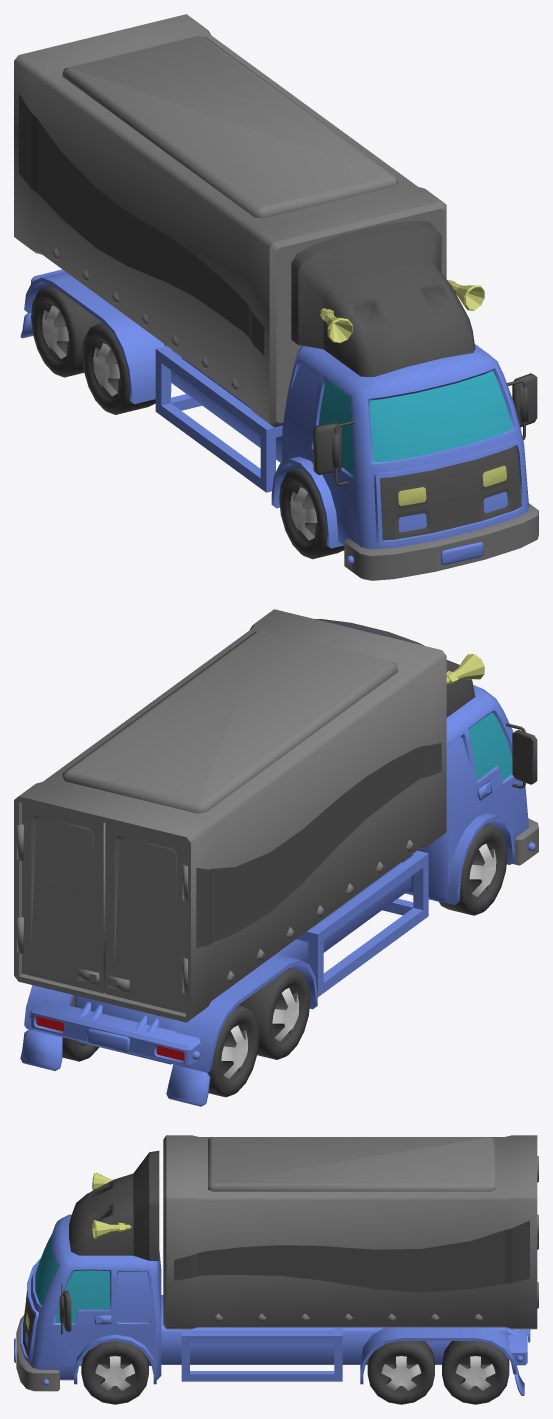
Rendered from tir.fbx.
3 renders of one model, top to bottom at view 1: azimuth 30°, elevation 25°; view 2: azimuth 150°, elevation 25°; view 3: azimuth 270°, elevation 25°, orthographic. The views are drawn at different scales.
Parts seen in each view (by area): view 1: tir, teker6, teker4.001, teker2.001; view 2: tir, kapi, kapi2.001, teker4.001, teker2.001, teker6, teker5; view 3: tir, teker5, teker3.001, teker.001.
Boxes of the visible parts, x1,y1,x2,y2 form: tir: (14,14,538,580); teker6: (31,285,102,377); teker4.001: (82,323,155,414); teker2.001: (279,467,344,559); tir: (14,609,538,1106); kapi: (17,802,105,993); kapi2.001: (105,823,187,1013); teker4.001: (238,968,310,1059); teker2.001: (439,823,507,915); teker6: (207,1005,259,1097); teker5: (62,995,99,1061); tir: (14,1135,537,1395); teker5: (442,1341,509,1404); teker3.001: (367,1341,434,1404); teker.001: (81,1341,148,1404).
Bounding box in the file's own units: 301 × 380 × 849.
